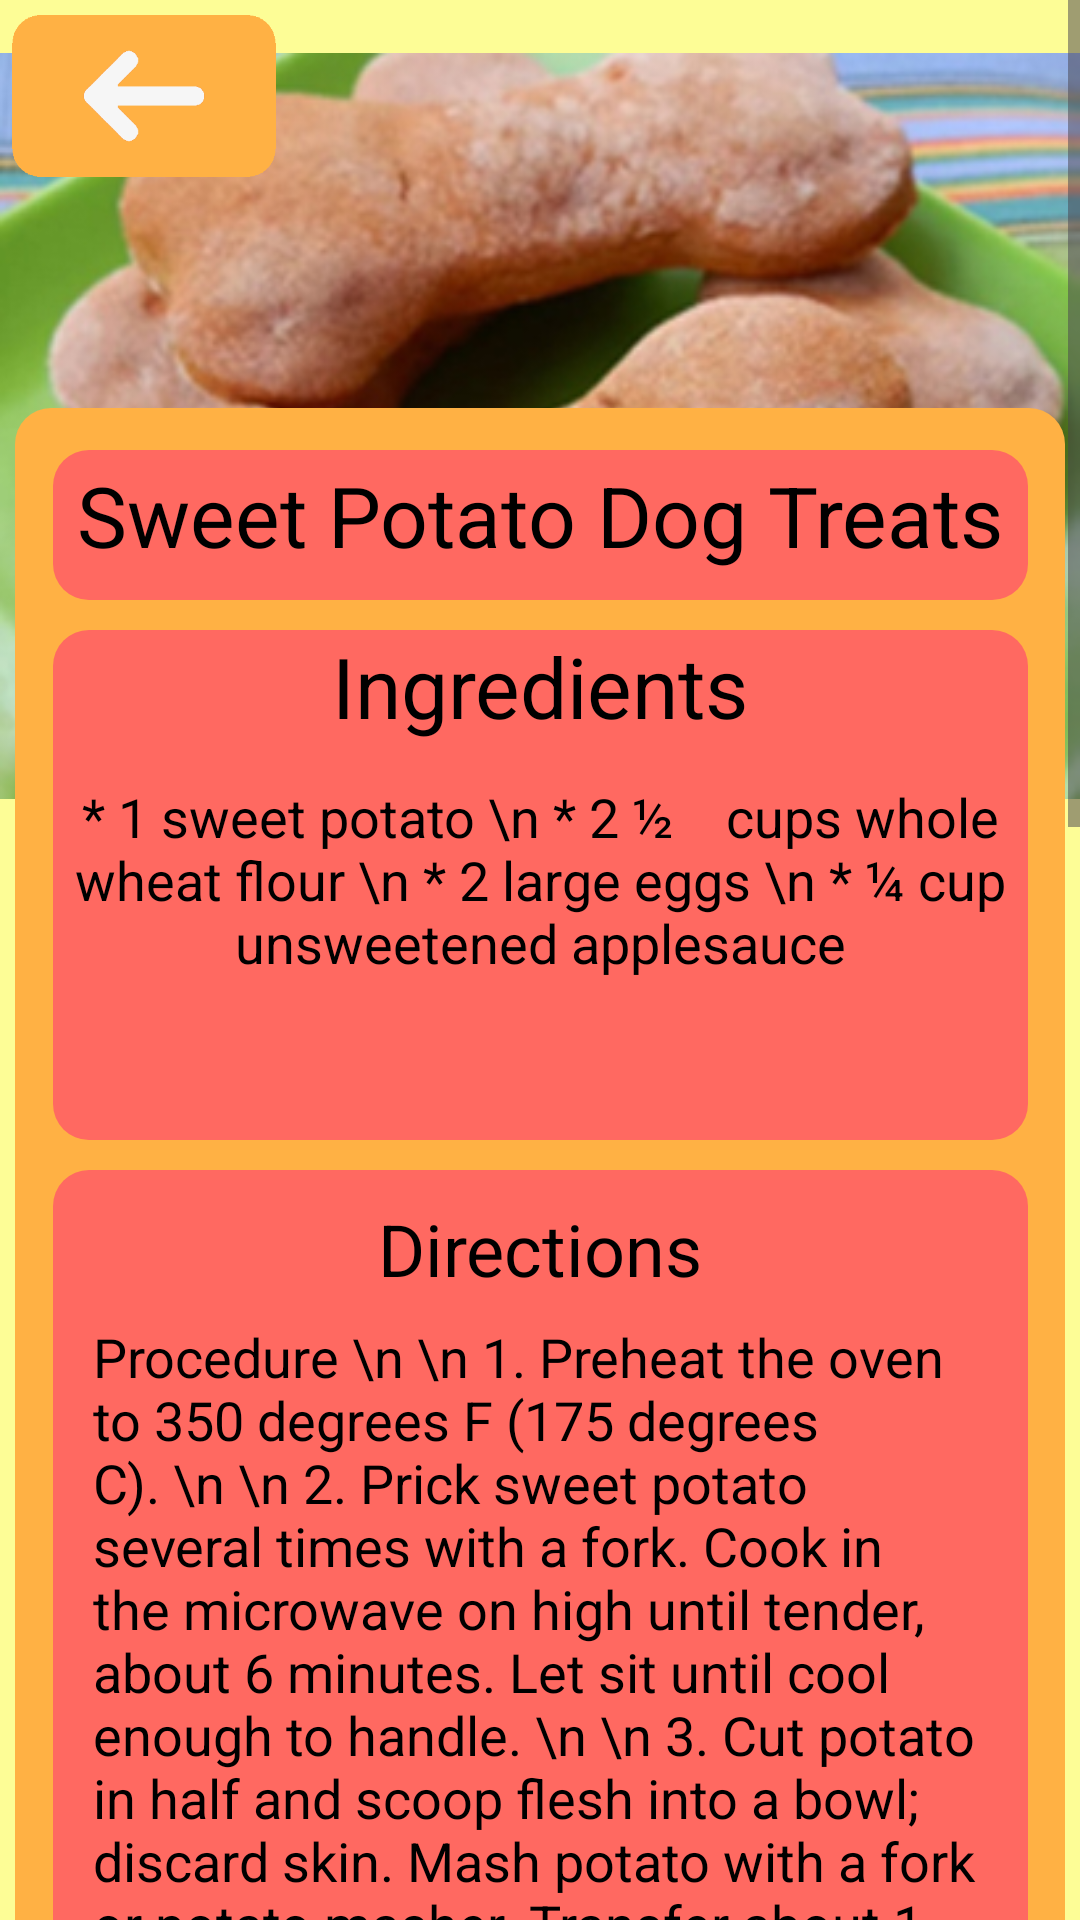

Icon click points for this 1080x1920 phone screenshot, format (x,y):
backred: (144,96)
